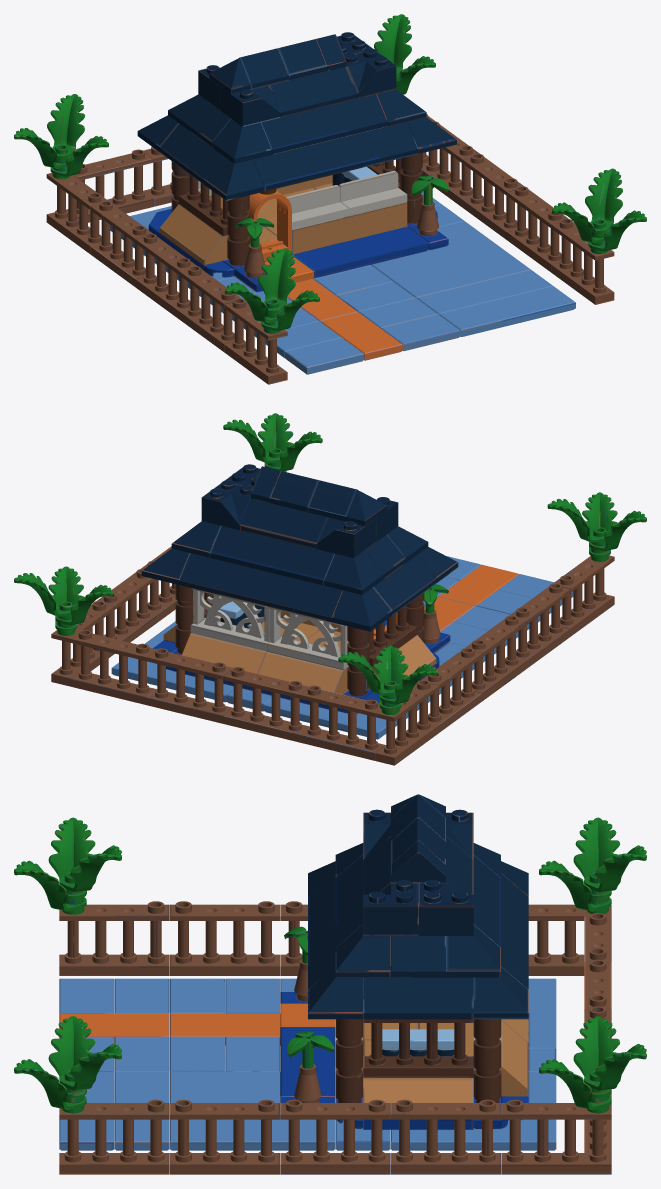
Rendered from House04.fbx.
The picture shows the model from 3 angles, top to bottom: view 1: azimuth 30°, elevation 25°; view 2: azimuth 150°, elevation 25°; view 3: azimuth 270°, elevation 25°; orthographic projection. The views are drawn at different scales.
Parts seen in each view (by area): view 1: TM; view 2: TM; view 3: TM.
Part boxes in pixels (x1,y1,x2,y2): TM: [14, 14, 646, 384]; TM: [14, 413, 646, 765]; TM: [14, 794, 646, 1174].
Size of the model in its own units: 16984 by 7678 by 18332.
1 material, 1 textured.
